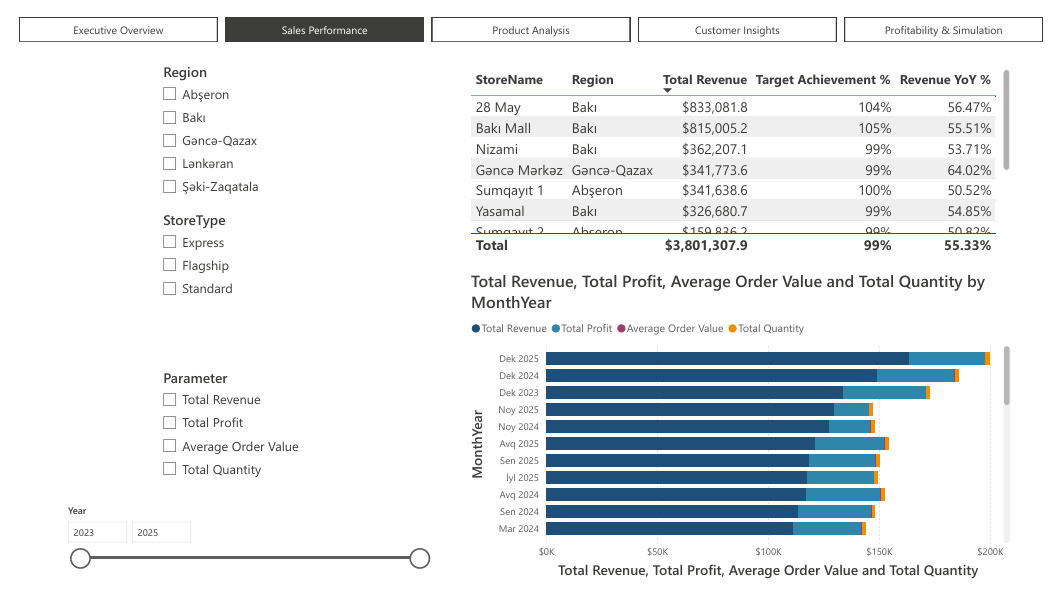

Layout of this report page (visuals, bound fields, positions):
{"tool":"powerbi","page":{"name":"Sales Performance","canvas":[1280,720],"ordinal":1},"visuals":[{"type":"slicer","fields":{"Values":["Parameter.Parameter"]},"box":[166.8,433.2,237.1,155.1],"z":0},{"type":"barChart","fields":{"Y":["_Measures.Total Revenue","_Measures.Total Profit","_Measures.Average Order Value","_Measures.Total Quantity"],"Category":["Dim_Date.MonthYear"]},"box":[560.5,314.6,683.4,392.2],"z":1000},{"type":"tableEx","fields":{"Values":["Dim_Store.StoreName","Dim_Store.Region","_Measures.Total Revenue","_Measures.Target Achievement %","_Measures.Revenue YoY %"]},"box":[560.5,60,683.4,241.5],"z":2000},{"type":"slicer","fields":{"Values":["Dim_Store.StoreType"]},"box":[166.8,235.6,237.1,197.6],"z":3000},{"type":"slicer","fields":{"Values":["Dim_Date.Year"]},"box":[48.3,602.9,474.1,93.7],"z":4000},{"type":"slicer","fields":{"Values":["Dim_Store.Region"]},"box":[166.8,51.2,260.5,184.4],"z":5000},{"type":"pageNavigator","box":[0,0,1280.5,30.7],"z":6000}]}

Visuals, with their boxes in screenshot pixels (x1, y1, x2, y2), scaled from the page's 1280x720 canvas onto the 1060x591 screenshot:
slicer - Parameter.Parameter: {"x1": 138, "y1": 356, "x2": 334, "y2": 483}
barChart - _Measures.Total Revenue x _Measures.Total Profit: {"x1": 464, "y1": 258, "x2": 1030, "y2": 580}
tableEx - Dim_Store.StoreName x Dim_Store.Region: {"x1": 464, "y1": 49, "x2": 1030, "y2": 247}
slicer - Dim_Store.StoreType: {"x1": 138, "y1": 193, "x2": 334, "y2": 356}
slicer - Dim_Date.Year: {"x1": 40, "y1": 495, "x2": 433, "y2": 572}
slicer - Dim_Store.Region: {"x1": 138, "y1": 42, "x2": 354, "y2": 193}
pageNavigator: {"x1": 0, "y1": 0, "x2": 1059, "y2": 25}
